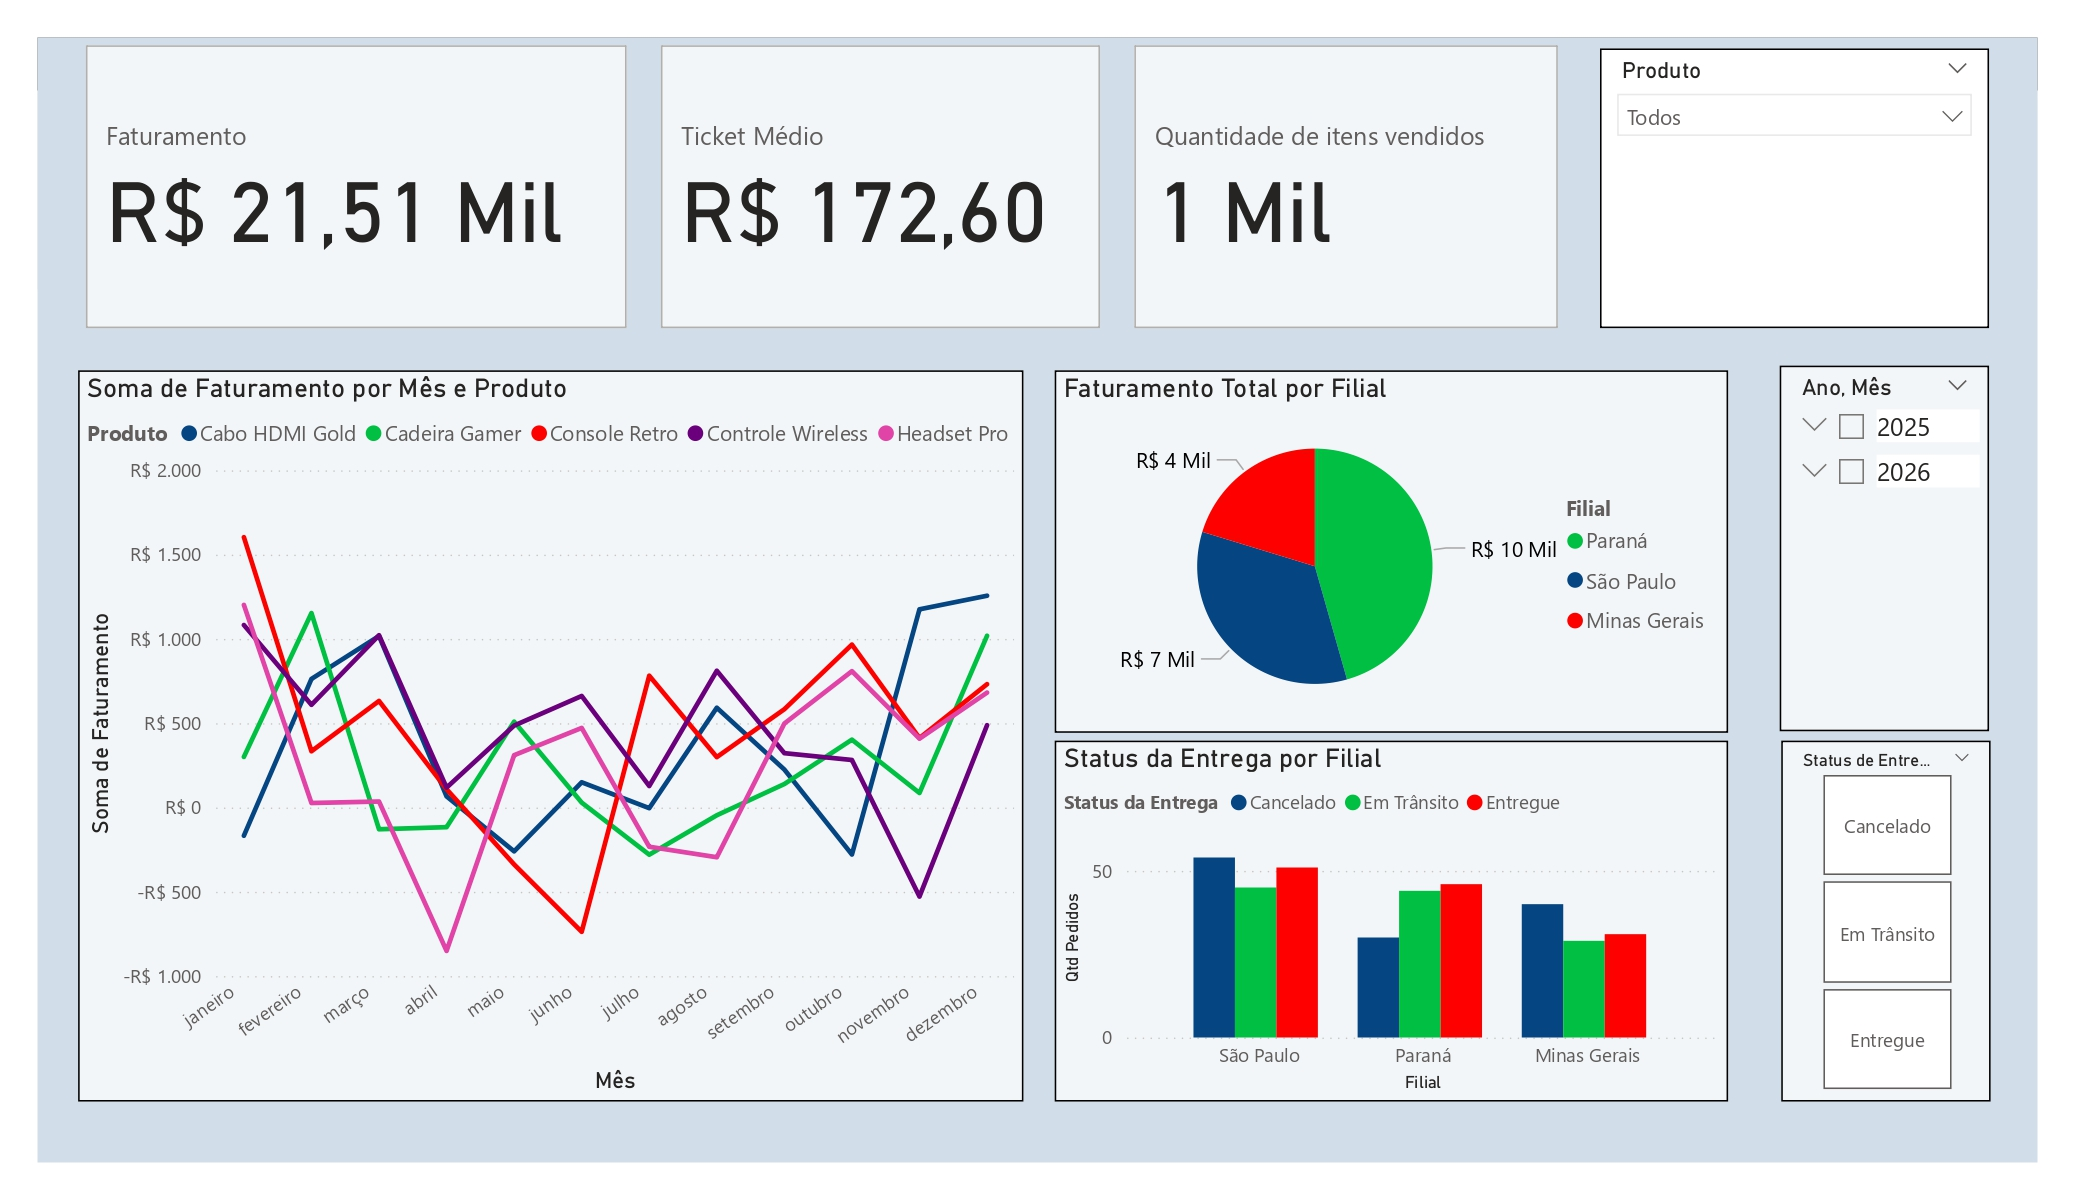

The page's visual inventory and layout, read from the dashboard file:
{"tool":"powerbi","page":{"name":"Página 1","canvas":[1280,720],"ordinal":0},"visuals":[{"type":"cardVisual","fields":{"Data":["Fato_Vendas.Faturamento_Total"]},"box":[26,0,356,191],"z":0},{"type":"cardVisual","fields":{"Data":["Sum(Fato_Vendas.Qtd)"]},"box":[697,0,281,191],"z":1000},{"type":"cardVisual","fields":{"Data":["Fato_Vendas.Ticket_Medio"]},"box":[394,0,291,191],"z":2000},{"type":"clusteredColumnChart","title":"Status da Entrega por Filial ","fields":{"Category":["Fato_Vendas.Filial"],"Y":["CountNonNull(Fato_Vendas.Status_Entrega)"],"Series":["Fato_Vendas.Status_Entrega"]},"box":[650.5,450,431.7,231.1],"z":3000},{"type":"lineChart","fields":{"Category":["Fato_Vendas.Data.Variation.Hierarquia de datas.Mês"],"Y":["Sum(Fato_Vendas.Faturamento)"],"Series":["Fato_Vendas.Produto"]},"box":[25.7,212.8,605.3,468.3],"z":4000},{"type":"pieChart","fields":{"Category":["Fato_Vendas.Filial"],"Y":["Fato_Vendas.Faturamento_Total"]},"box":[650.5,212.8,431.7,232.3],"z":5000},{"type":"slicer","fields":{"Values":["Fato_Vendas.Data.Variation.Hierarquia de datas.Ano","Fato_Vendas.Data.Variation.Hierarquia de datas.Mês"]},"box":[1115.2,210.3,133.3,233.6],"z":6000},{"type":"slicer","fields":{"Values":["Fato_Vendas.Status_Entrega"]},"box":[1116.4,450,133.3,231.1],"z":7000},{"type":"slicer","fields":{"Values":["Fato_Vendas.Produto"]},"box":[1000,7,249,179],"z":8000}]}

Visuals, with their boxes in screenshot pixels (x1, y1, x2, y2):
cardVisual - Fato_Vendas.Faturamento_Total: [89, 43, 638, 338]
cardVisual - Sum(Fato_Vendas.Qtd): [1123, 43, 1557, 338]
cardVisual - Fato_Vendas.Ticket_Medio: [656, 43, 1105, 338]
"Status da Entrega por Filial " clusteredColumnChart: [1052, 737, 1717, 1093]
lineChart - Fato_Vendas.Data.Variation.Hierarquia de datas.Mês x Sum(Fato_Vendas.Faturamento): [88, 371, 1022, 1093]
pieChart - Fato_Vendas.Filial x Fato_Vendas.Faturamento_Total: [1052, 371, 1717, 730]
slicer - Fato_Vendas.Data.Variation.Hierarquia de datas.Ano x Fato_Vendas.Data.Variation.Hierarquia de datas.Mês: [1768, 368, 1974, 728]
slicer - Fato_Vendas.Status_Entrega: [1770, 737, 1976, 1093]
slicer - Fato_Vendas.Produto: [1591, 54, 1975, 330]
